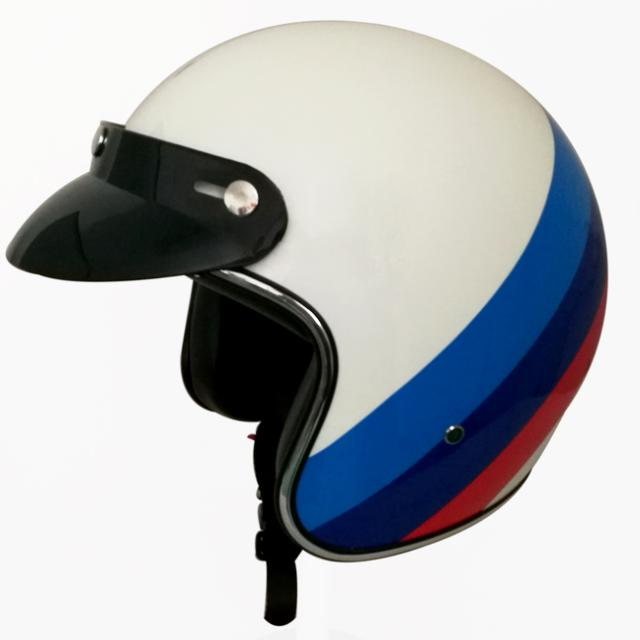Helm: (7, 11, 614, 637)
